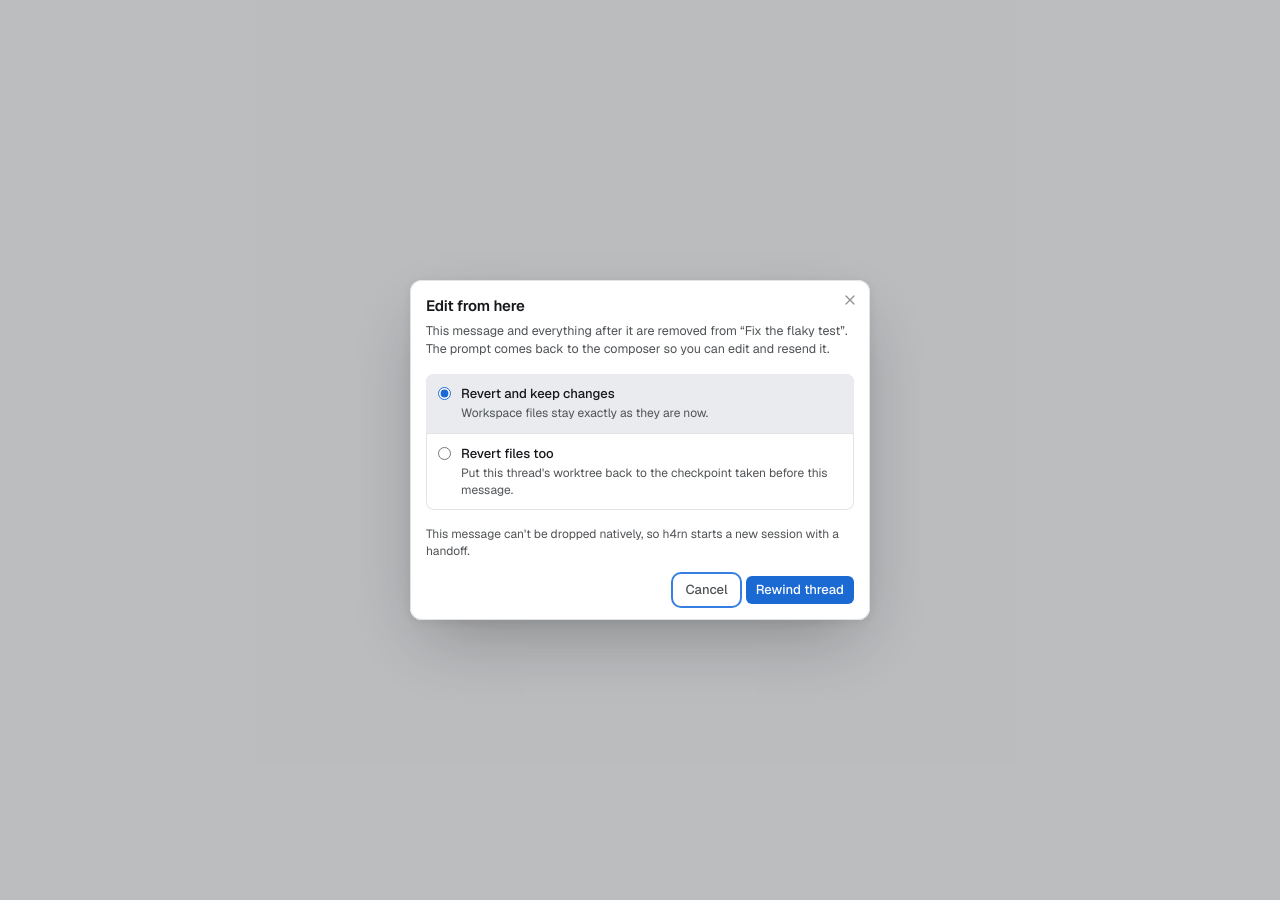
it: RewindDialog › names four ignored files and counts the rest, as the rewind toast does
The width and height of the screenshot is (1280, 900).
Expected: the text "Revert files too" is shown, top-left (461, 445), bottom-right (554, 462)
Click the radio button labelled "Revert files too" at {"x": 444, "y": 454}, box top-left (438, 447), bottom-right (451, 460)
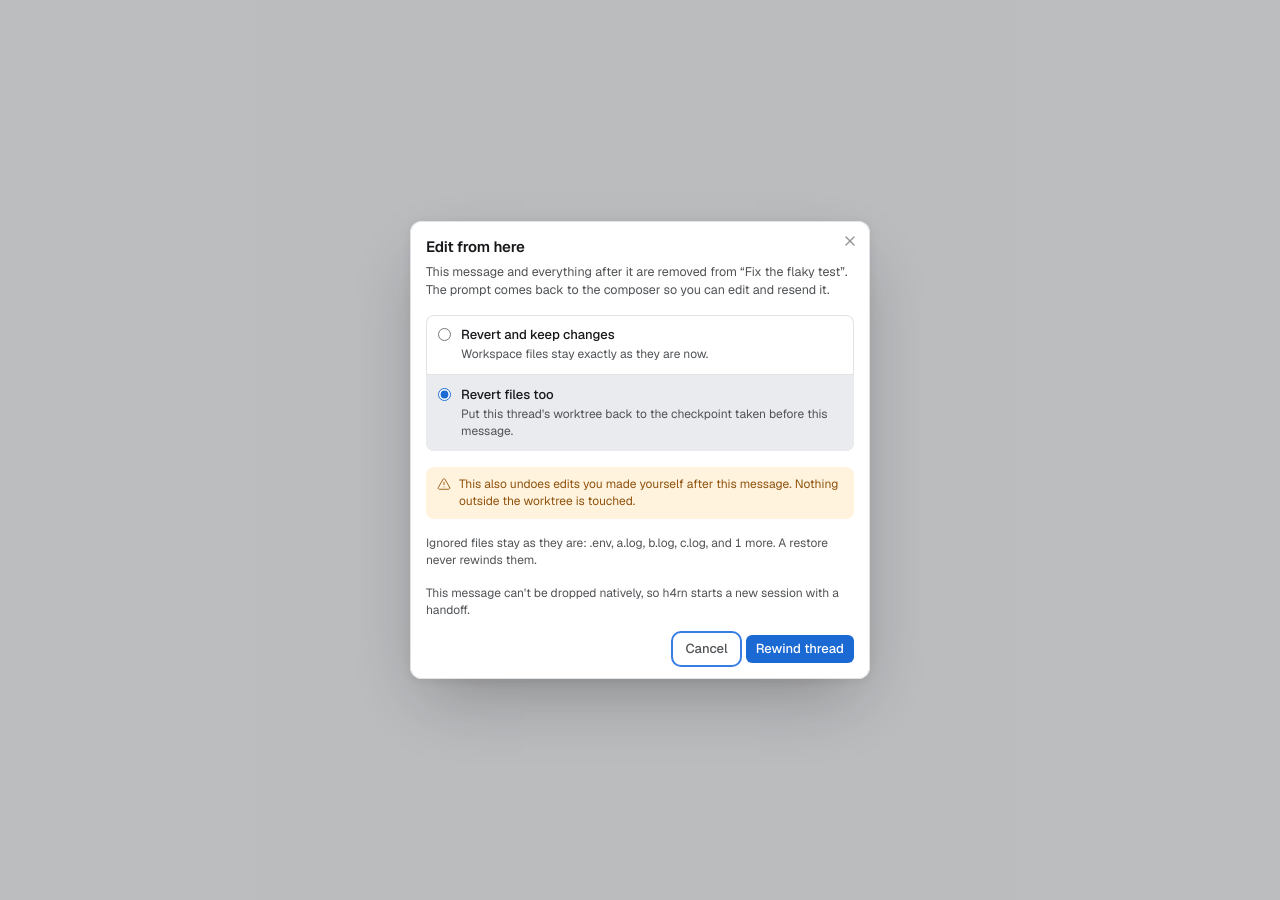
Expected: the text "Ignored files stay as they are: .env, a.log, b.log, c.log, and 1 more." is shown, top-left (426, 535), bottom-right (828, 568)
